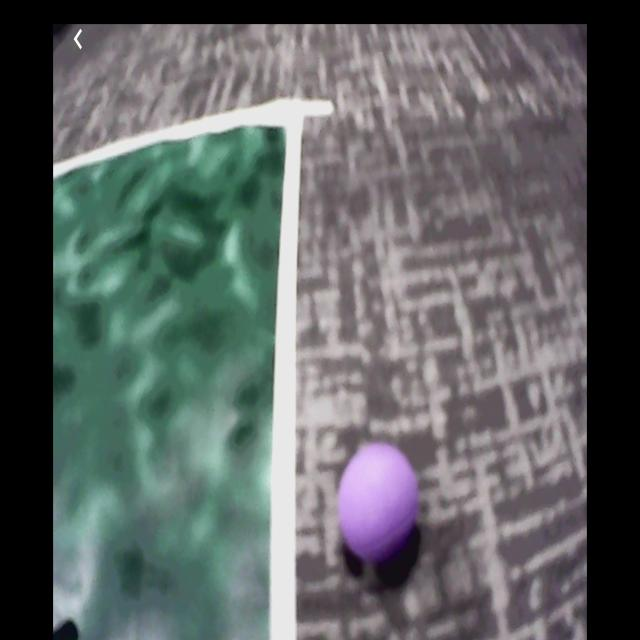ball: (337, 441, 421, 565)
